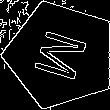M_E: (28, 25, 94, 85)
